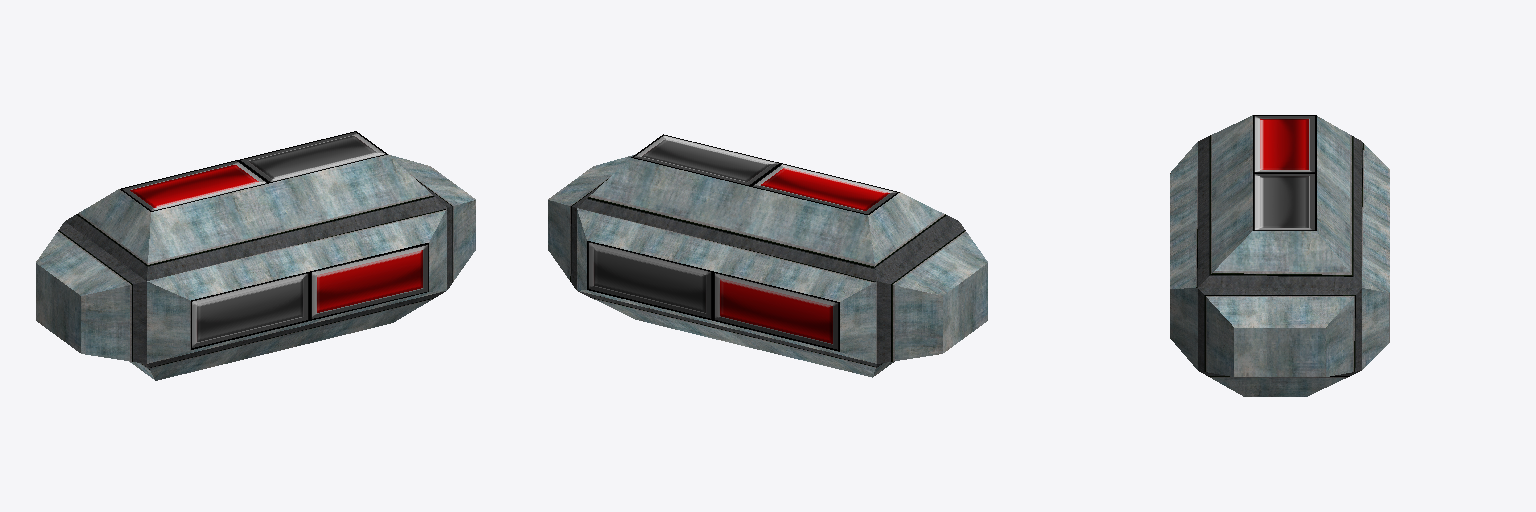
3 views of the same model, side by side, from view 1: azimuth 30°, elevation 25°; view 2: azimuth 150°, elevation 25°; view 3: azimuth 270°, elevation 25° (orthographic).
Visible parts, largest first — view 1: Mesh1 Model; view 2: Mesh1 Model; view 3: Mesh1 Model.
Part boxes in pixels (x1,y1,x2,y2): Mesh1 Model: (36,131,475,380); Mesh1 Model: (548,134,987,377); Mesh1 Model: (1170,115,1389,396).
Size of the model in its own units: 2.5 by 1 by 1.2.
3 materials, 3 textured.